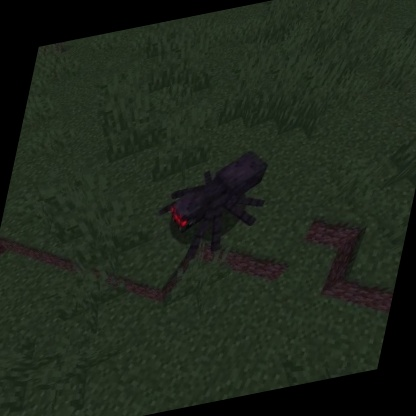spider: (142, 141, 281, 272)
